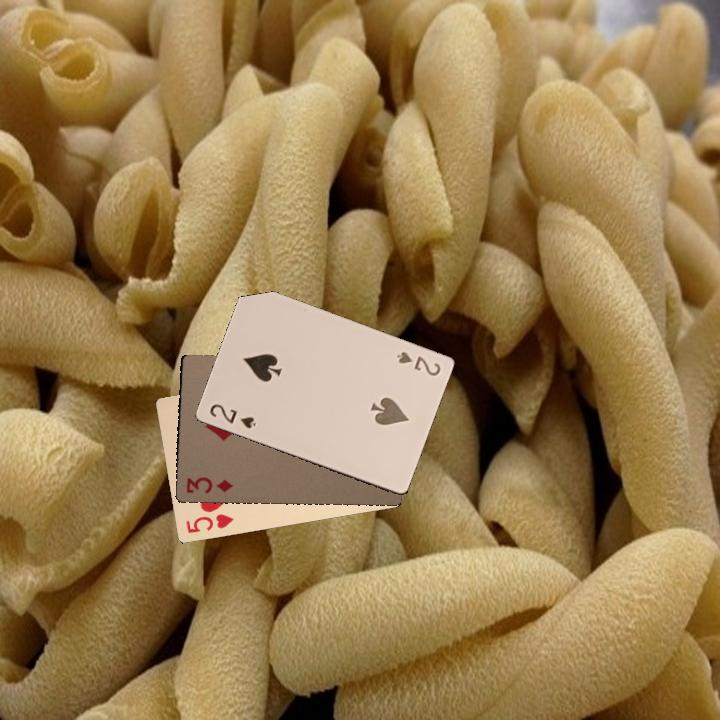2s: (205, 400, 257, 431), (393, 347, 443, 379)
3d: (182, 473, 235, 499)
5h: (182, 510, 236, 536)
